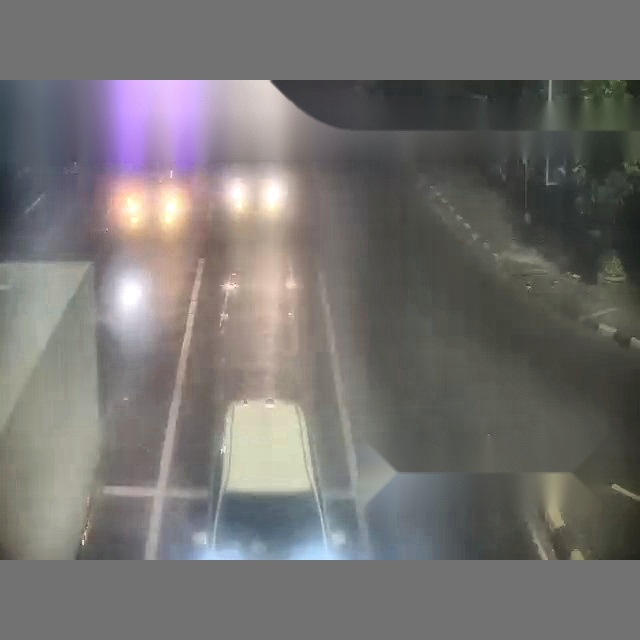Mobil: (194, 398, 349, 559)
Truk: (0, 259, 106, 558)
